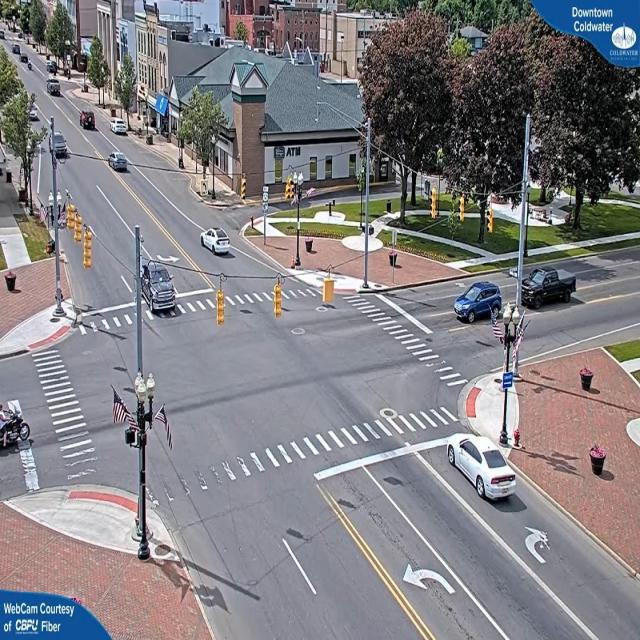car: (452, 436, 519, 501), (521, 268, 577, 311), (454, 283, 502, 324), (202, 230, 232, 255), (111, 154, 129, 172), (112, 120, 128, 136)
motorbike: (0, 404, 30, 450)
